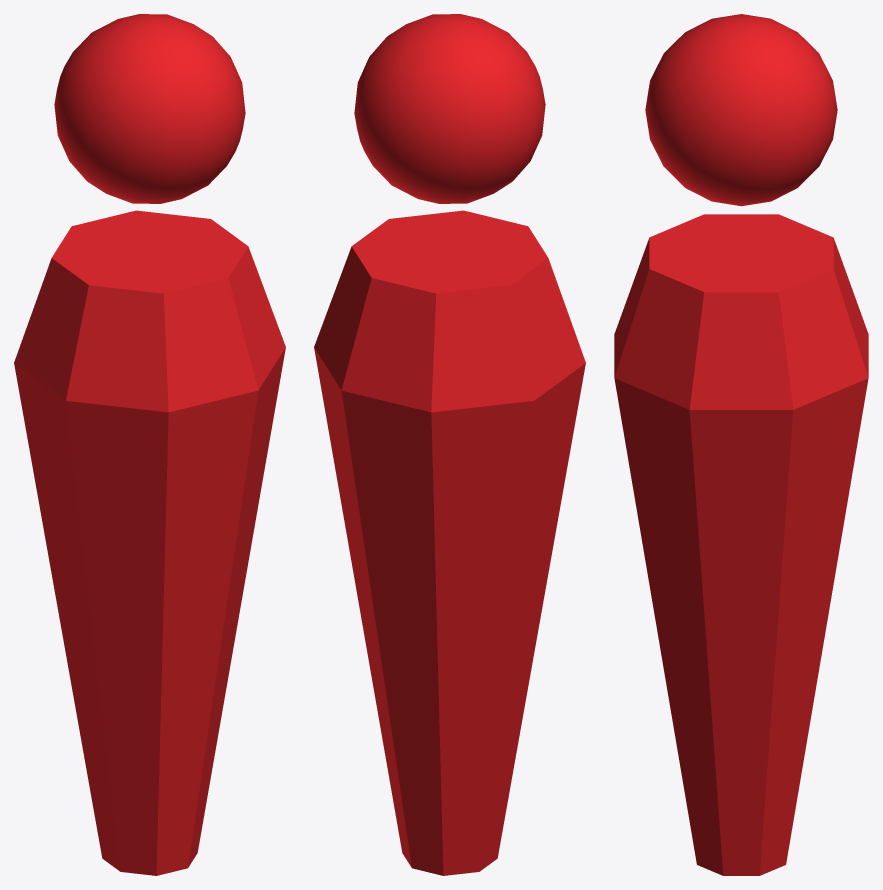
The model's file is pointer.glb.
The picture shows the model from 3 angles, left to right: view 1: azimuth 30°, elevation 25°; view 2: azimuth 150°, elevation 25°; view 3: azimuth 270°, elevation 25°; orthographic projection.
Visible parts, largest first — view 1: Icosphere.001; view 2: Icosphere.001; view 3: Icosphere.001.
Part boxes in pixels (x1,y1,x2,y2): Icosphere.001: [14, 14, 285, 875]; Icosphere.001: [314, 14, 585, 875]; Icosphere.001: [614, 14, 868, 875].
Bounding box in the file's own units: 0.6709 × 2.43 × 0.6709.
